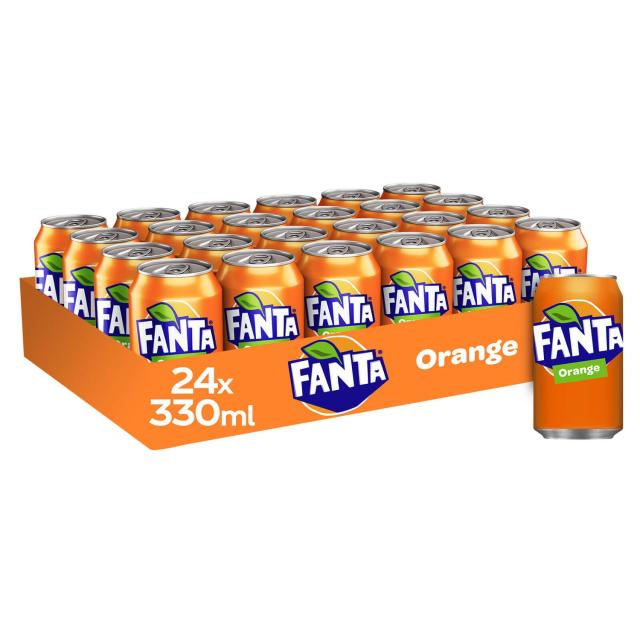fanta: (532, 276, 630, 450), (129, 266, 222, 396), (368, 227, 469, 334), (294, 243, 388, 337), (97, 247, 182, 350), (29, 214, 118, 308), (450, 231, 540, 316), (221, 250, 294, 354), (66, 234, 143, 332), (517, 217, 587, 310)
